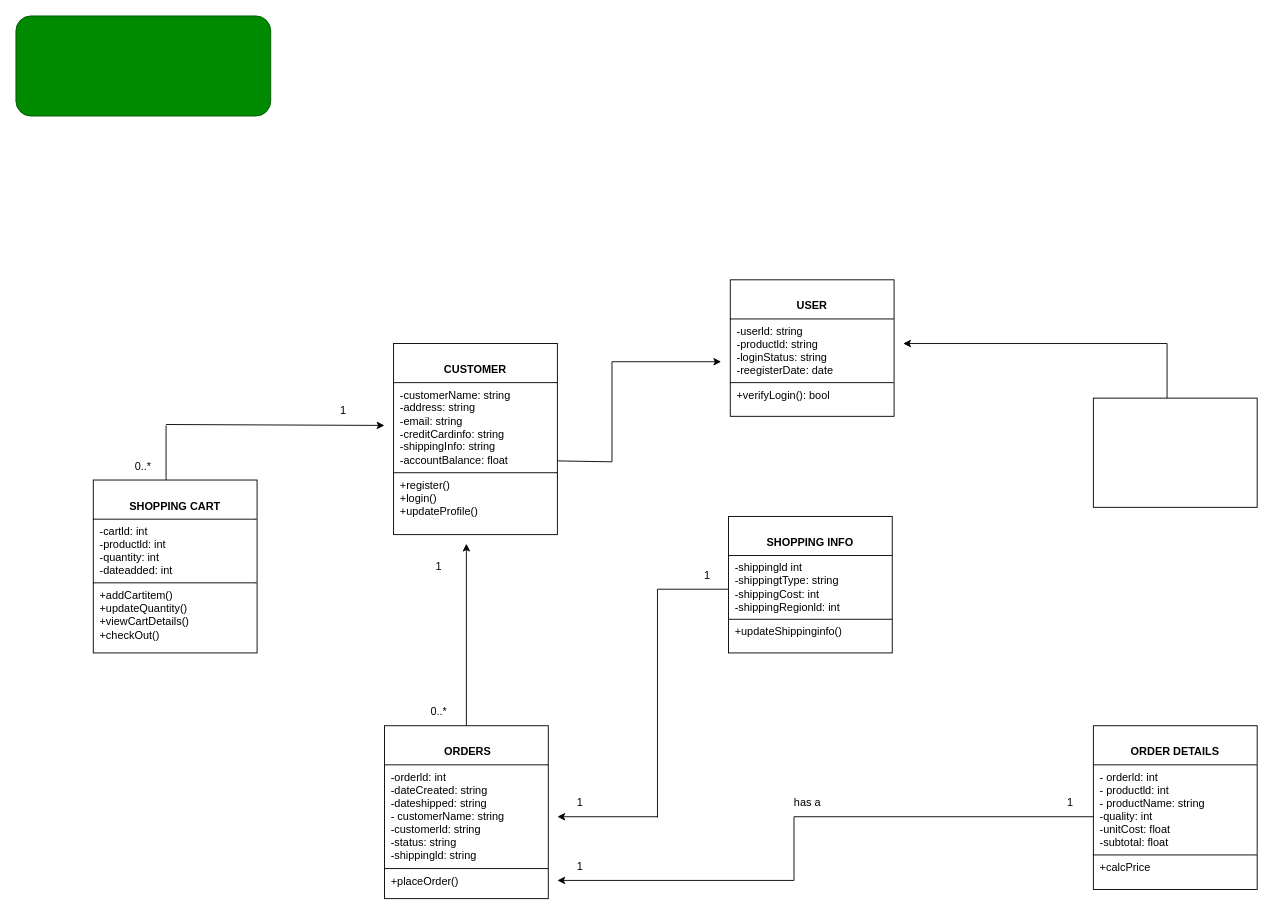
Some shapes in this 1273 by 915 pixel diagram are drawn without their labels. The box of each missing label's shape, as (x1, y1, x2, y2) in pixels:
ADMINISTRATION -adminName: string - email: string +updateCatalog(): bool: (1092, 397, 1257, 507)
UML CLASS DIAGRAM: (15, 15, 271, 116)
